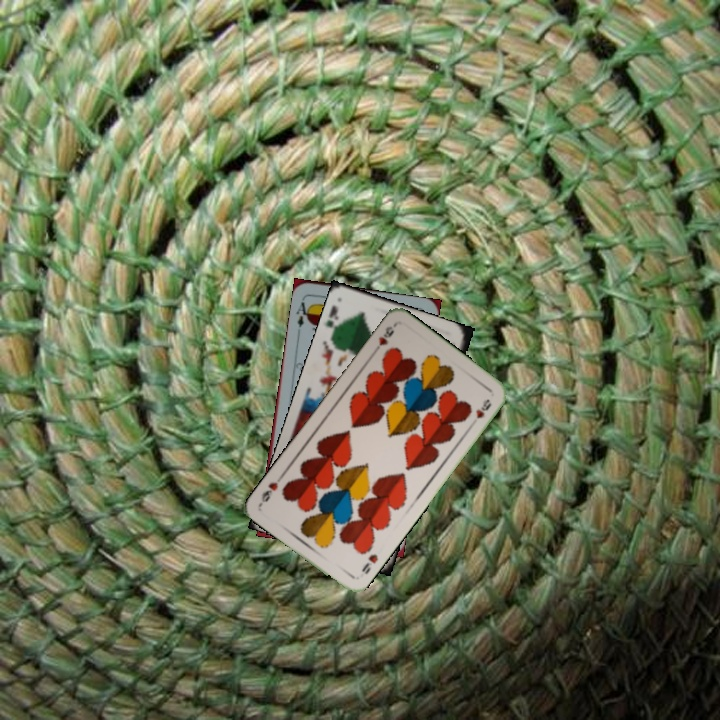EA: (292, 294, 314, 330)
GK: (321, 301, 343, 339)
H9: (369, 322, 397, 356), (357, 550, 381, 577)
